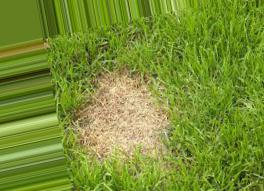patch: (83, 75, 157, 167)
